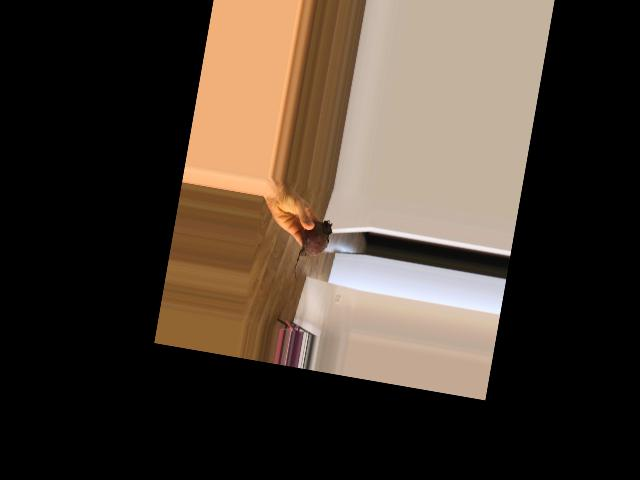beet: (292, 216, 333, 286)
